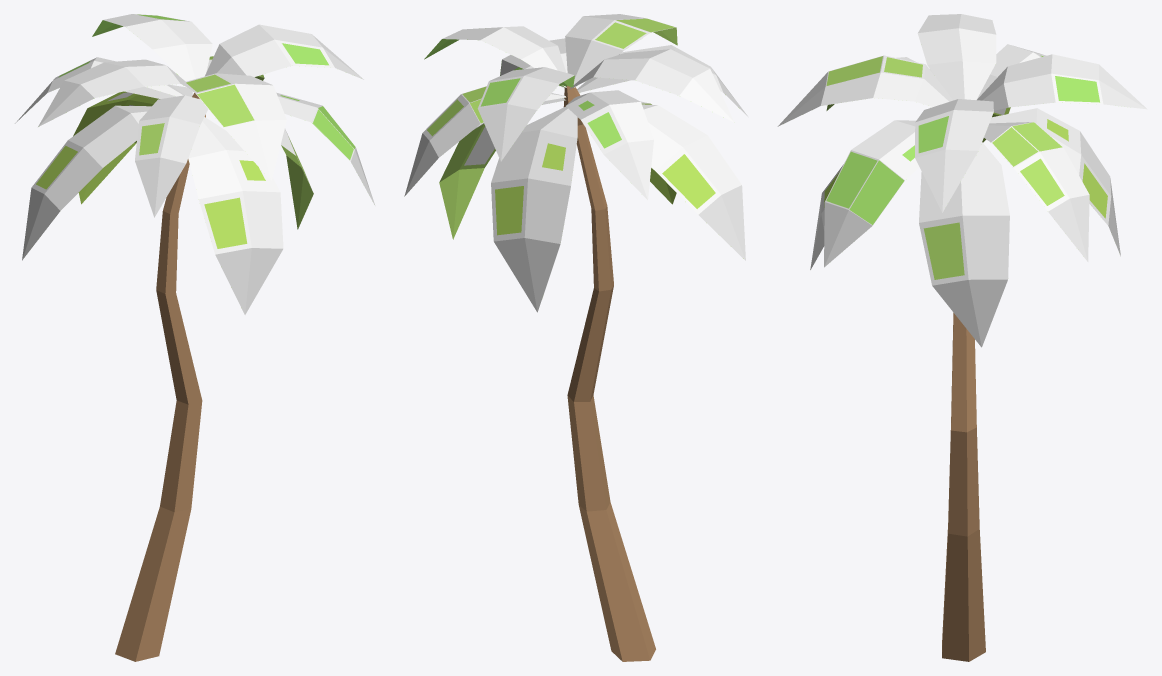
File: Palm_Tree_l_Snow_BT_04.fbx
3 views of the same model, side by side, from view 1: azimuth 30°, elevation 25°; view 2: azimuth 150°, elevation 25°; view 3: azimuth 270°, elevation 25° (orthographic). The views are drawn at different scales.
Parts seen in each view (by area): view 1: Palm_Tree_l_Snow_BT_04; view 2: Palm_Tree_l_Snow_BT_04; view 3: Palm_Tree_l_Snow_BT_04.
Part boxes in pixels (left/top/right/bottom): Palm_Tree_l_Snow_BT_04: left=15, top=14, right=375, bottom=661; Palm_Tree_l_Snow_BT_04: left=404, top=14, right=747, bottom=661; Palm_Tree_l_Snow_BT_04: left=777, top=14, right=1147, bottom=661.
Size of the model in its own units: 475 by 809 by 440.
